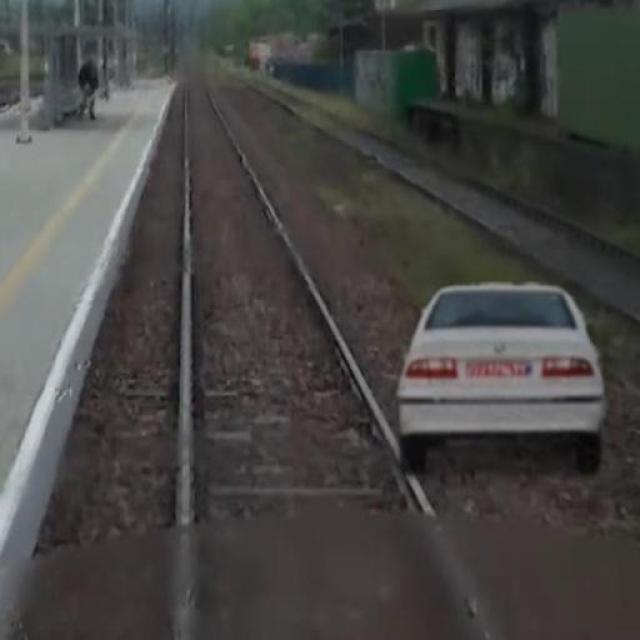vehicle: (391, 275, 612, 478)
